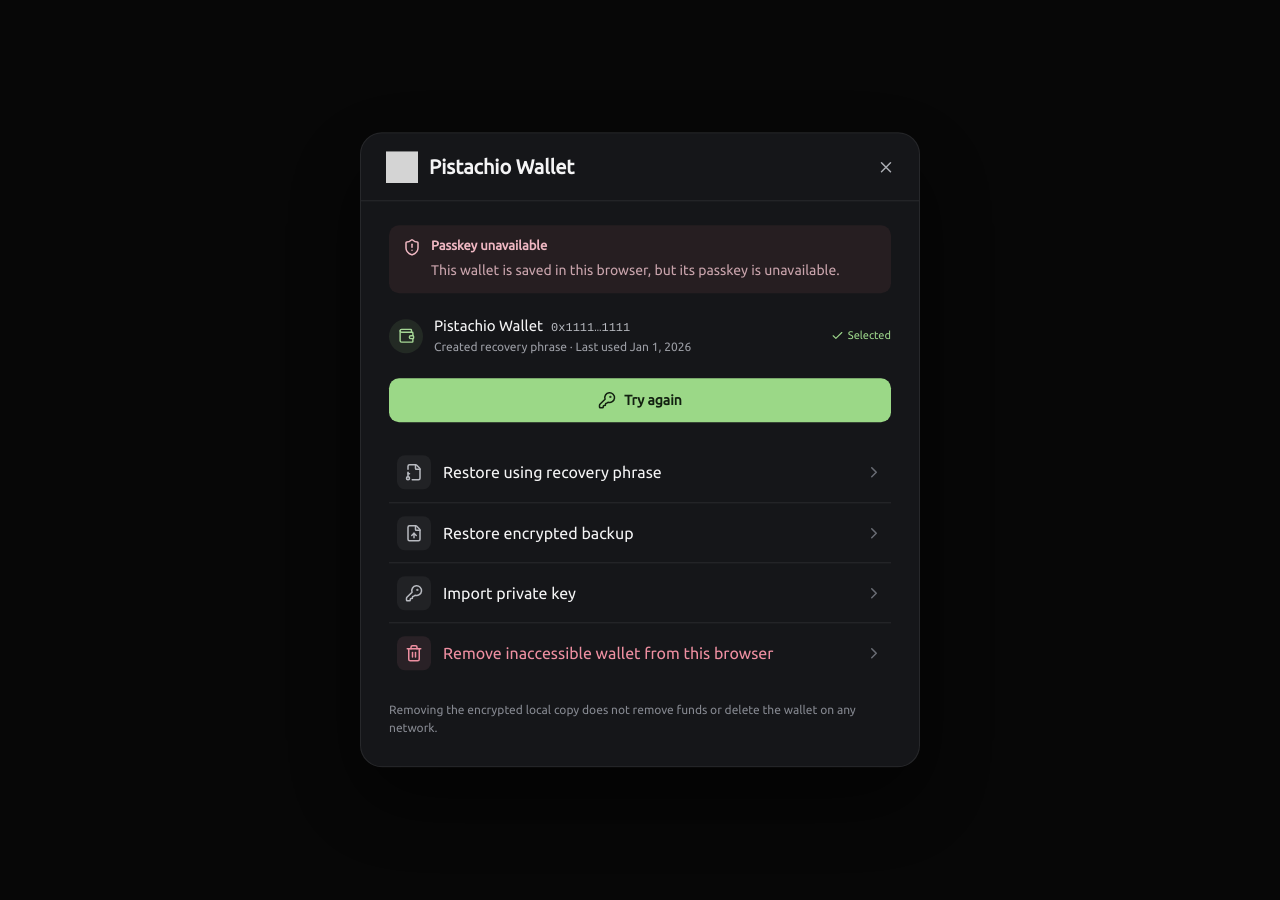
Pistachio Wallet saved-wallet behavior › shows missing-passkey recovery, retry, and secondary remove action
Expected: the text "This wallet is saved in this browser, but its passkey is unavailable." is shown, [431,260,840,282]
Expected: the button "Try again" is shown, [389,379,891,423]
Click the button "Remove inaccessible wallet from this browser". click: (640, 653)
box: [389,623,891,683]
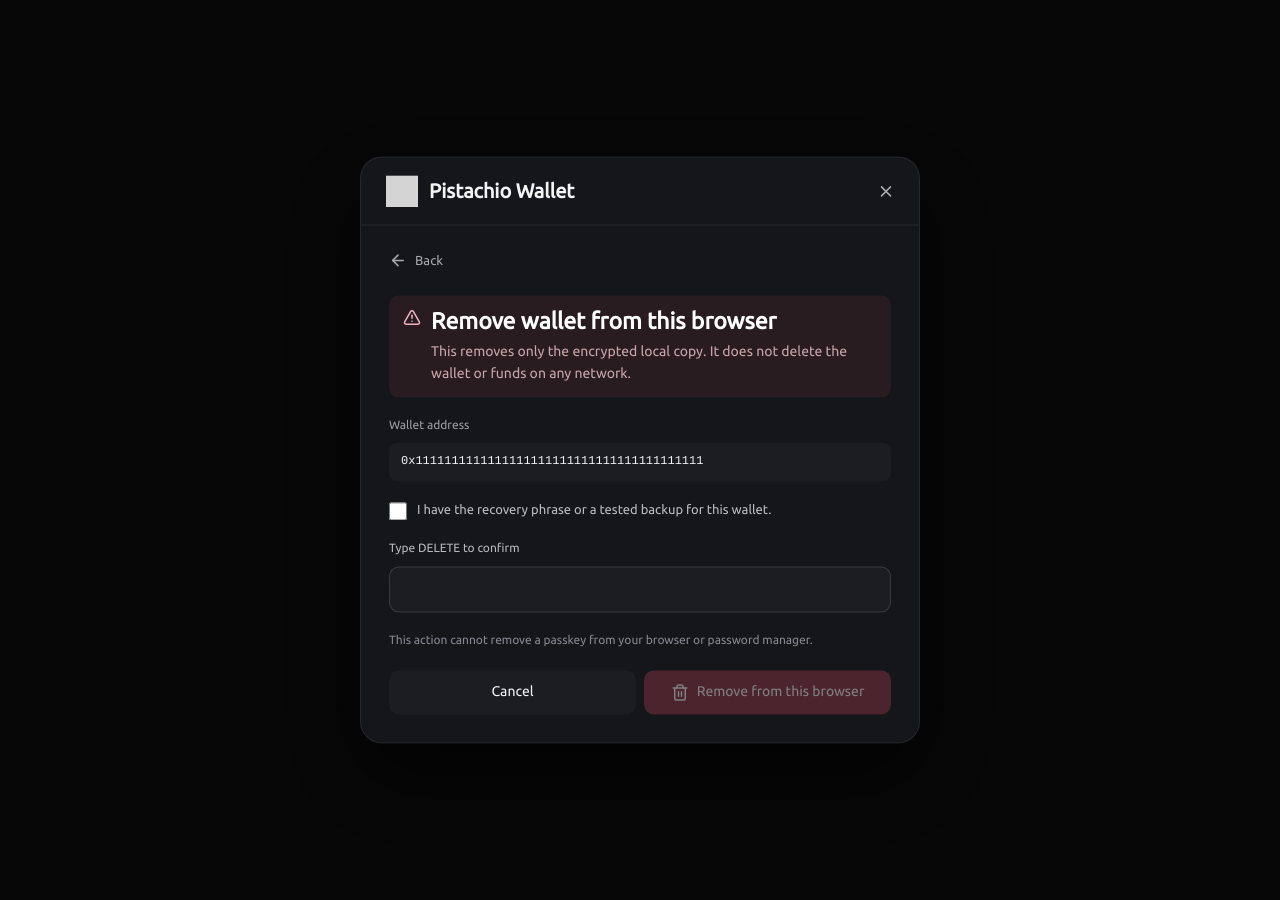
Expected: the heading "Remove wallet from this browser" is shown, [431,309,776,334]
